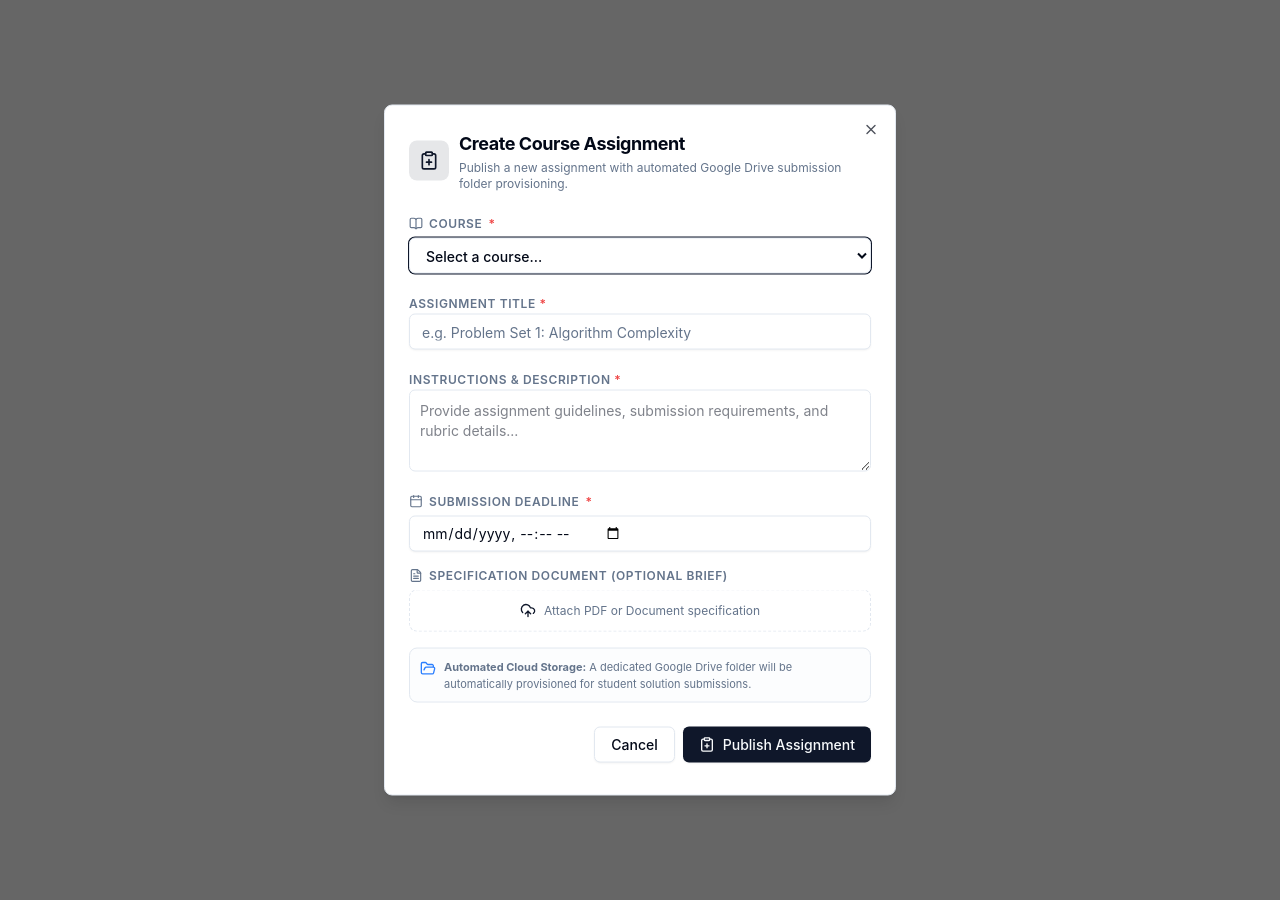
Assignment Dialogs, Sheet & Card Components › CreateAssignmentDialog › validates required fields and shows validation errors on empty submit
expect the heading "Create Course Assignment" is shown: met, box [459,132,685,154]
Click the button "Publish Assignment" at (777, 744), box [683,726,871,762]
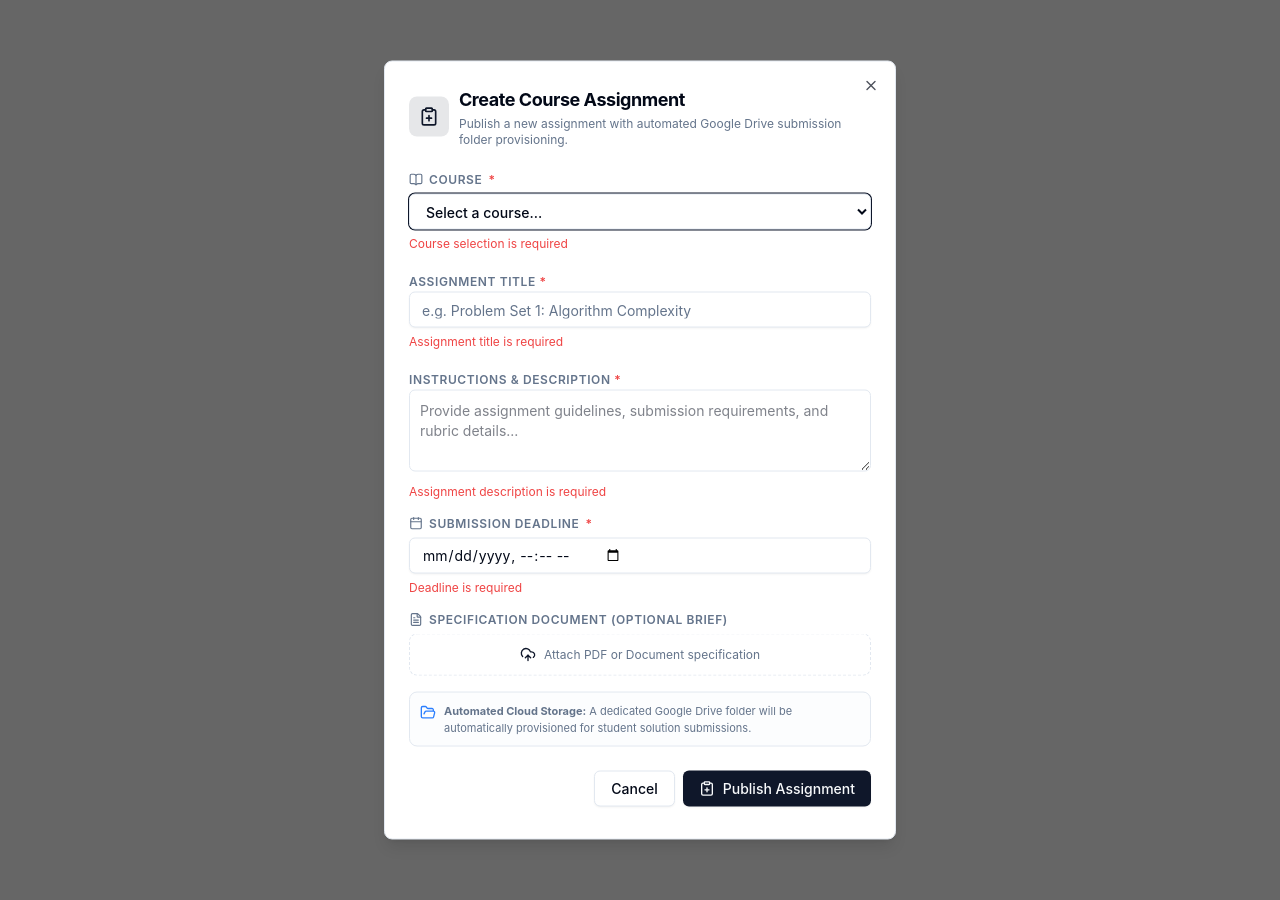
expect the text "Assignment title is required" is shown: met, box [409,334,563,348]
expect the text "Assignment description is required" is shown: met, box [409,484,606,498]
